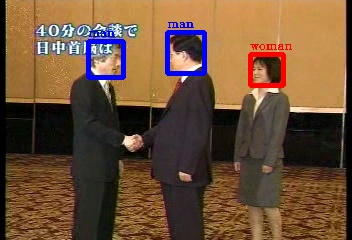man: (167, 32, 204, 73), (88, 41, 123, 77)
woman: (250, 54, 283, 85)
